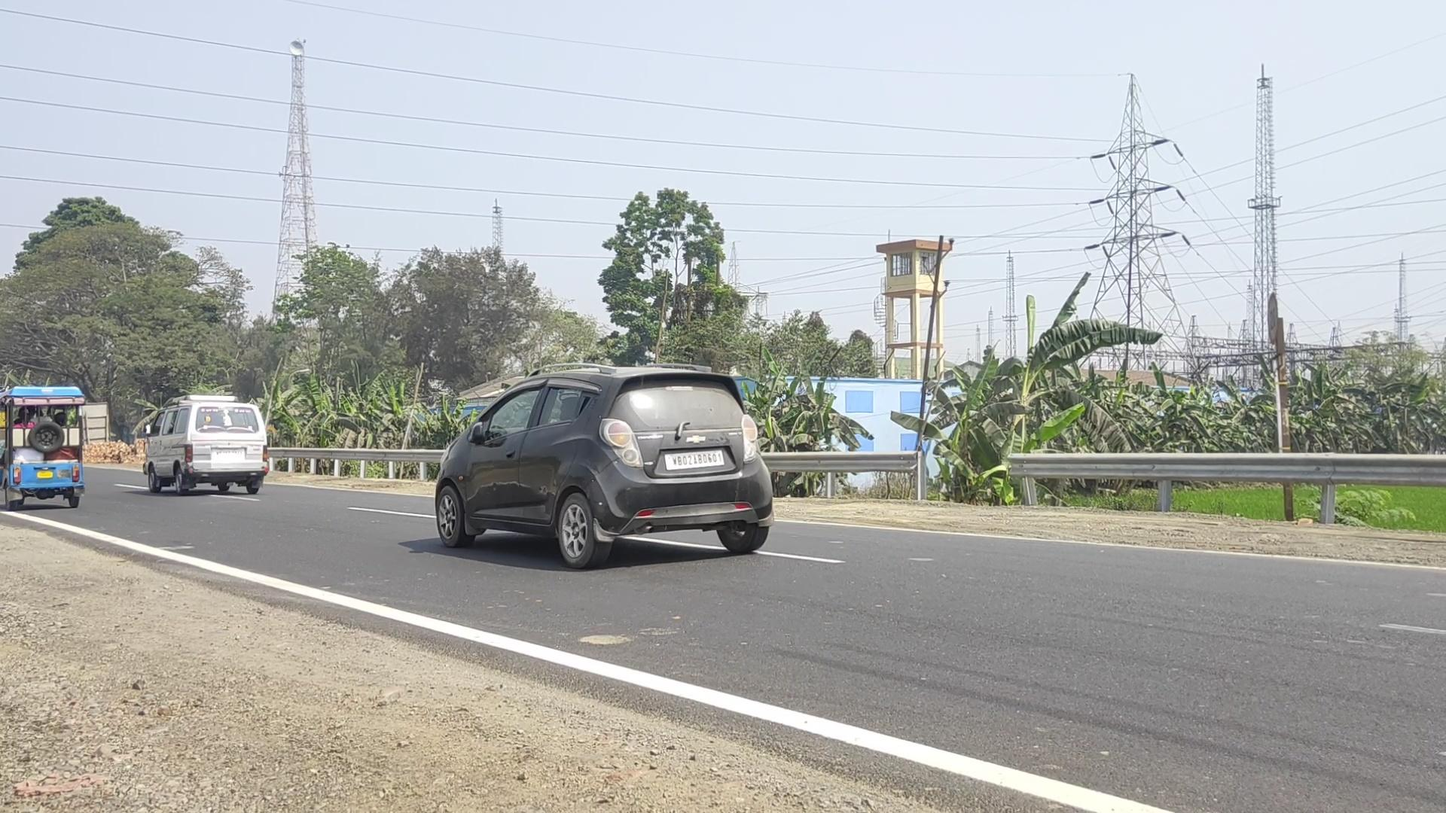Auto: (1, 385, 87, 510)
car: (435, 361, 776, 570)
van: (142, 394, 270, 495)
